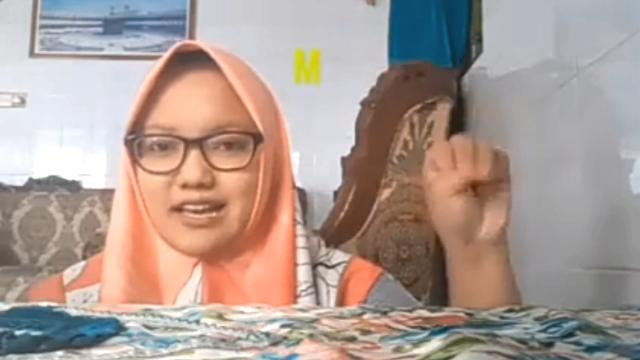M: (420, 136, 510, 248)
